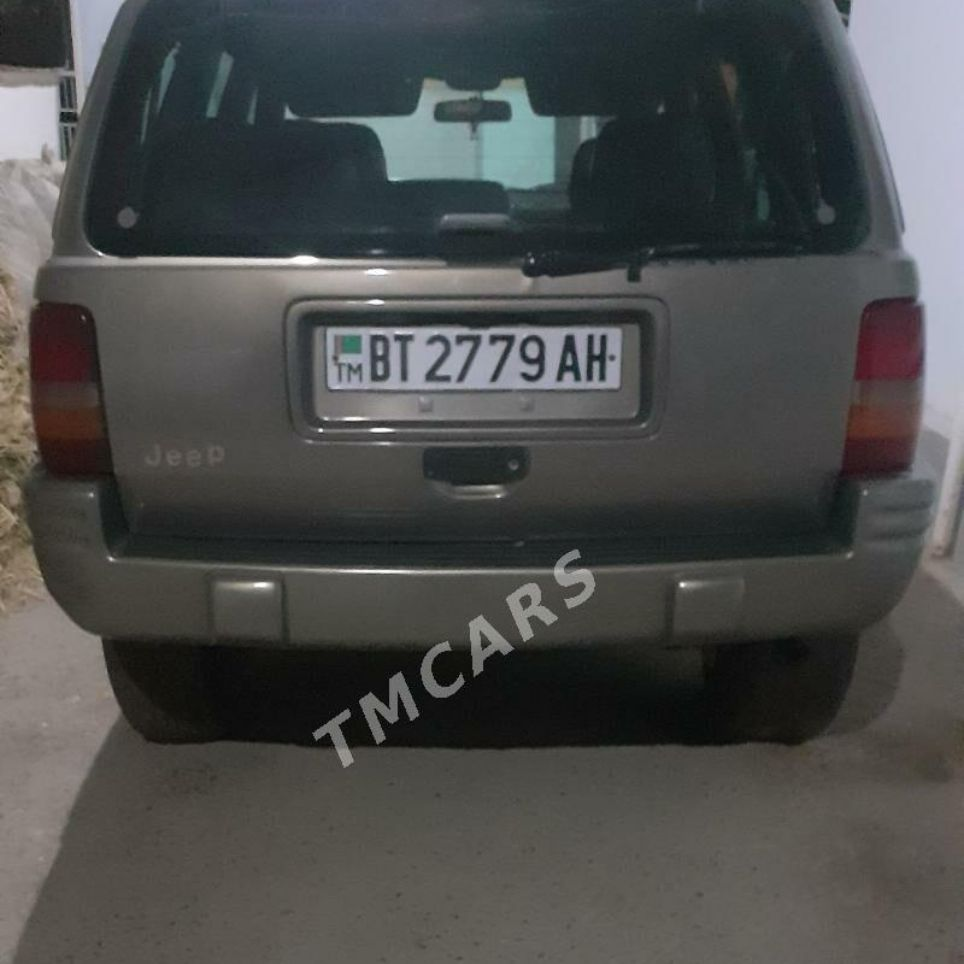license plate: (323, 321, 624, 387)
truck: (31, 2, 929, 758)
